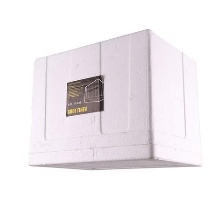foam_box: (20, 24, 207, 179)
